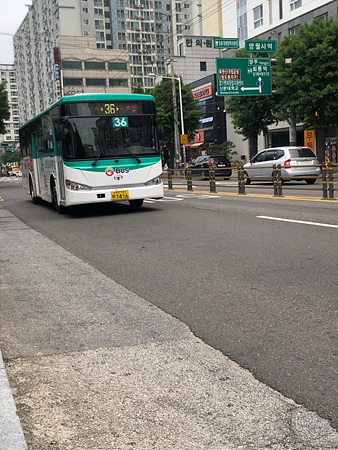bnum: (113, 115, 128, 127)
